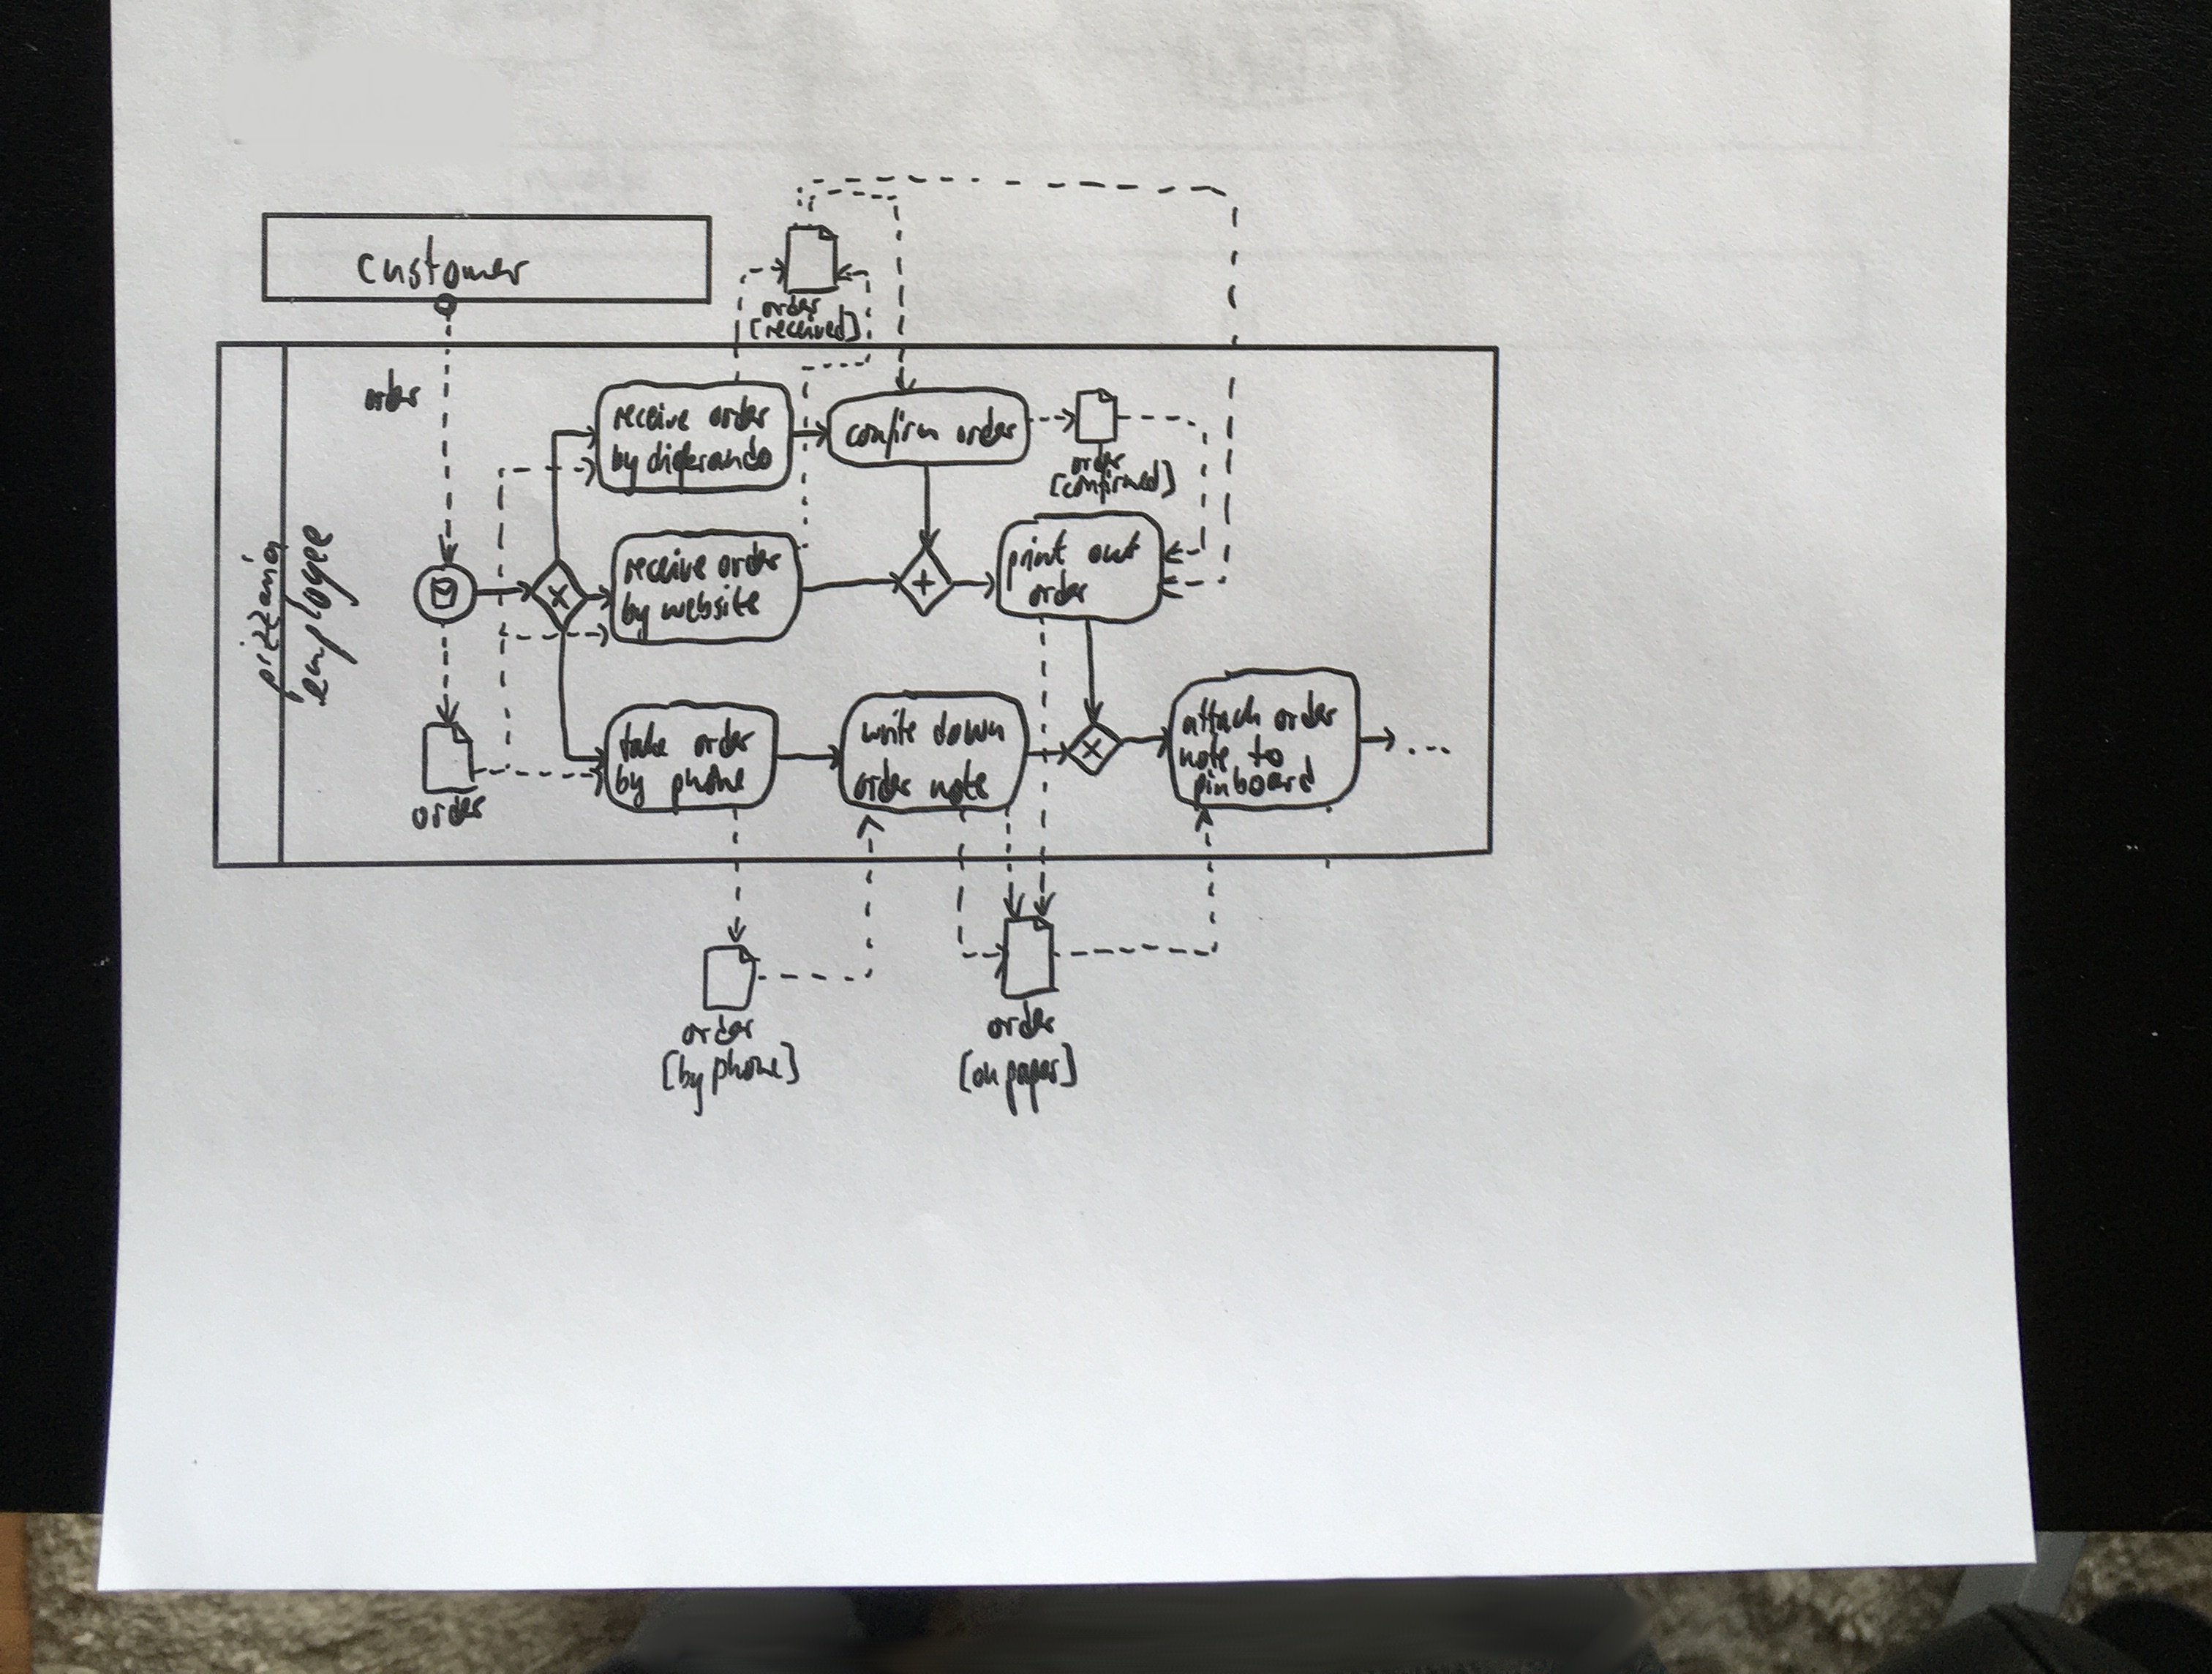Lieferando: (645, 433, 775, 482)
[by: (658, 1046, 709, 1117)
[confirmed]: (1050, 462, 1182, 505)
[on: (957, 1048, 1002, 1099)
[received]: (747, 309, 867, 343)
attach: (1180, 693, 1264, 737)
by: (617, 589, 656, 640), (610, 763, 649, 807), (608, 440, 640, 487)
confirm: (844, 406, 942, 457)
customer: (355, 232, 536, 290)
down: (927, 710, 1006, 751)
employee: (292, 526, 359, 705)
note: (928, 758, 990, 807), (1178, 737, 1233, 772)
order: (985, 997, 1064, 1041), (410, 791, 491, 833), (849, 758, 918, 805), (1271, 688, 1342, 733), (691, 712, 756, 760), (362, 369, 426, 417), (679, 1013, 763, 1048), (955, 404, 1022, 448), (714, 540, 784, 580), (1025, 571, 1097, 608), (707, 396, 770, 431), (1069, 440, 1131, 475), (760, 292, 823, 318)
out: (1085, 528, 1145, 571)
paper]: (999, 1043, 1078, 1120)
phone: (665, 760, 751, 807)
phone]: (709, 1039, 805, 1103)
pinboard: (1189, 763, 1319, 809)
pizzaria: (241, 542, 294, 693)
print: (1006, 528, 1071, 587)
receive: (622, 545, 709, 586), (610, 401, 695, 436)
take: (615, 721, 670, 763)
to: (1245, 733, 1287, 770)
website: (658, 580, 763, 624)
write: (862, 707, 921, 747)
